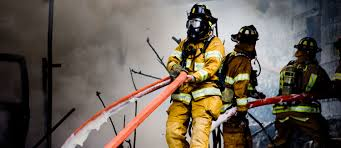emergent: (166, 2, 221, 148), (278, 37, 330, 139), (224, 23, 261, 148)
